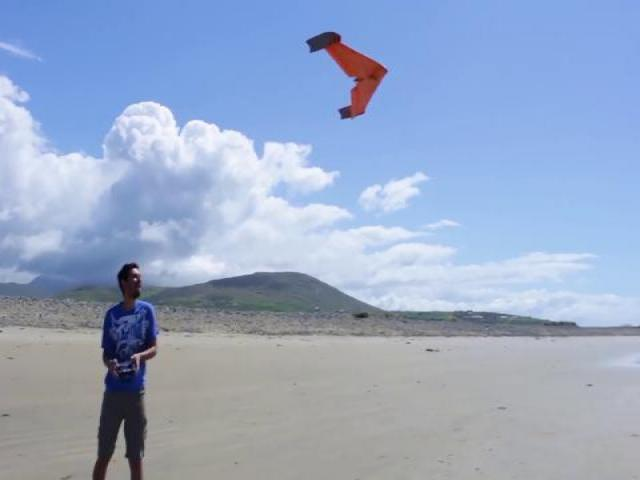flying wing: (304, 32, 389, 118)
